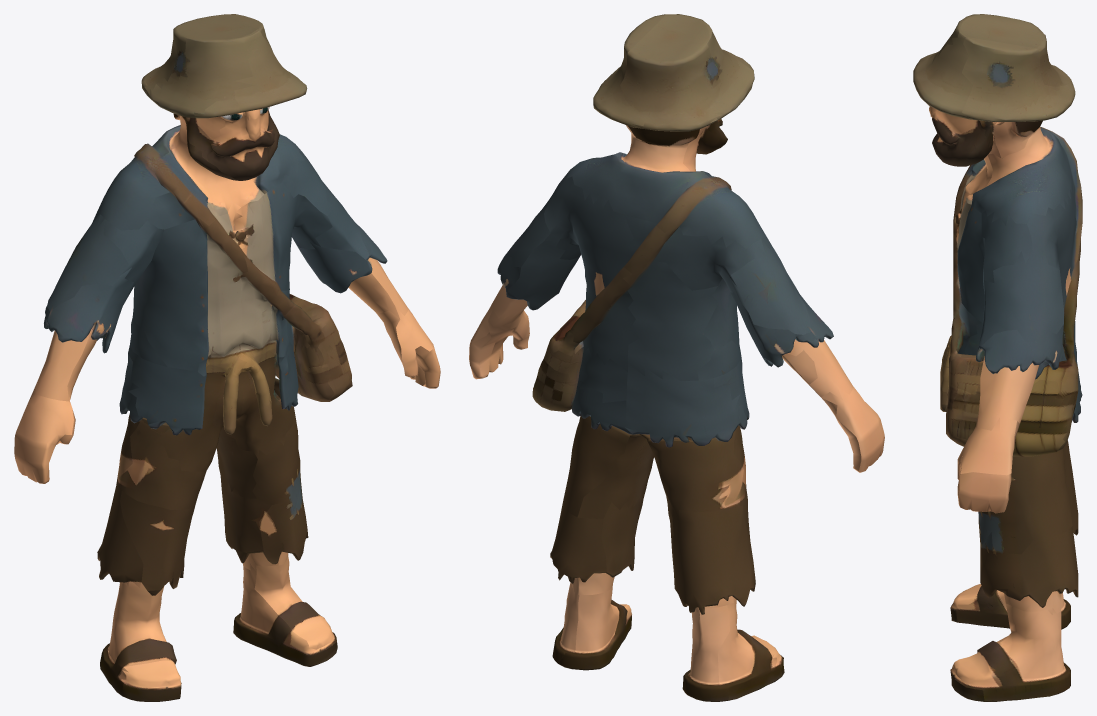
The model's file is character-cartoon.glb.
3 views of the same model, side by side, from view 1: azimuth 30°, elevation 25°; view 2: azimuth 150°, elevation 25°; view 3: azimuth 270°, elevation 25° (orthographic). The views are drawn at different scales.
Size of the model in its own units: 1.26 by 1.9 by 0.4658.
Materials: 1 (1 with a texture image).
